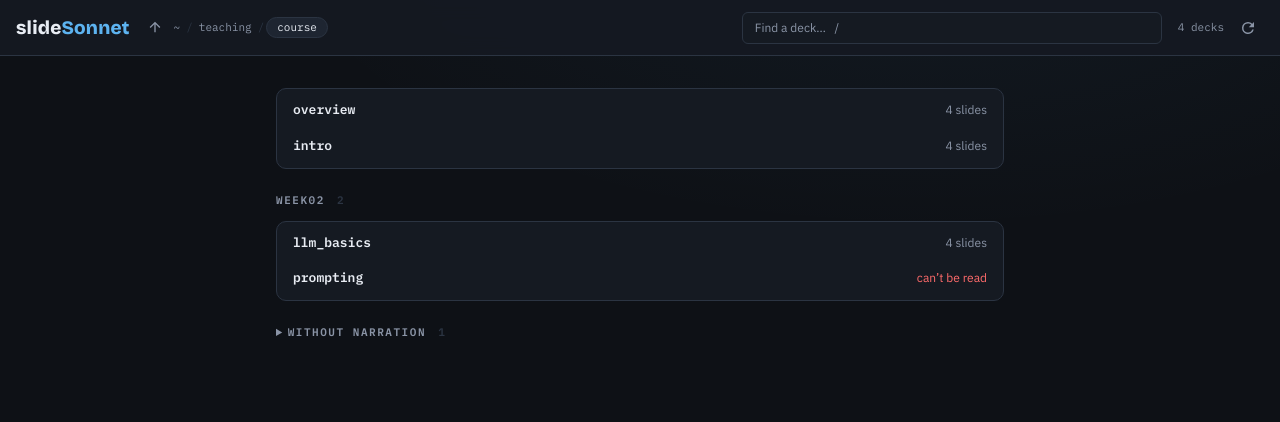
LibraryView › says plainly when a folder can’t be opened, and keeps the list
Click the button with test id "library-up" at (155, 28), box [142,14,168,40]
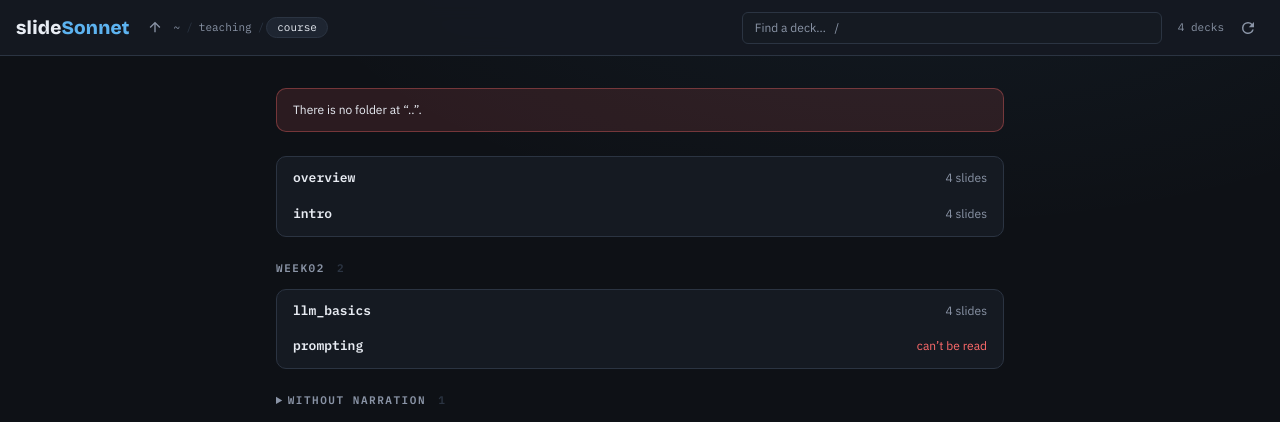
Expected: the text with test id "library-count" reads "4 decks", [1178,20,1224,34]
Expected: the text "There is no folder at “..”." is shown, [276,88,1004,132]
